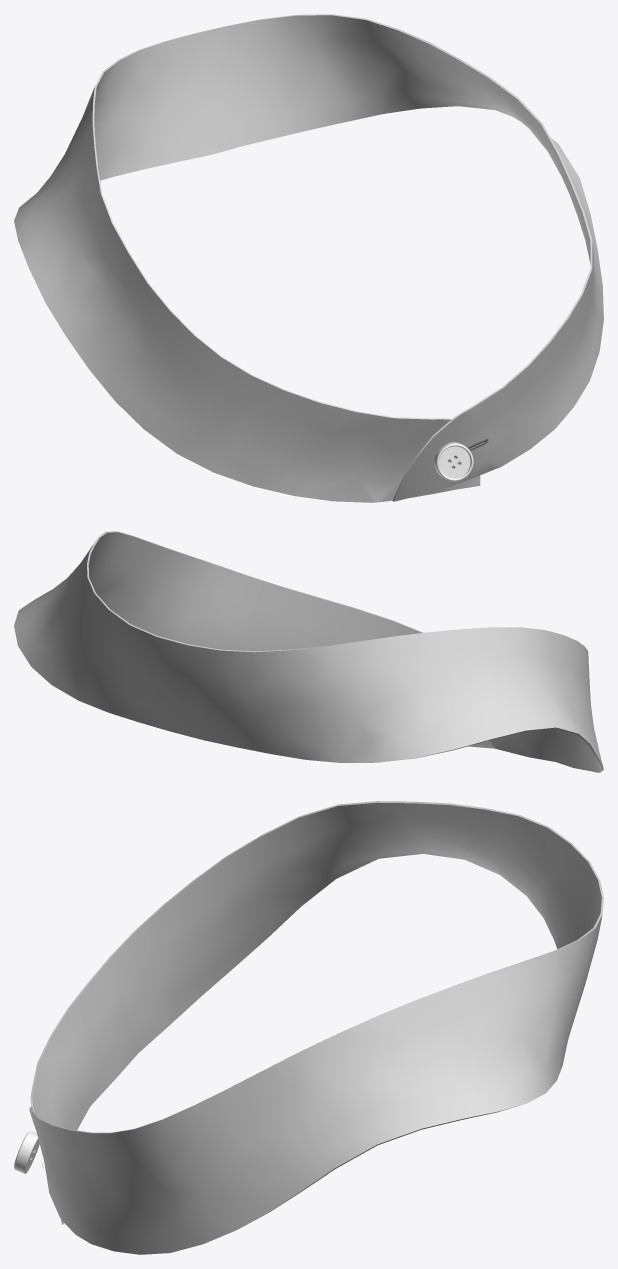
The model's file is collar-3-3.glb.
3 renders of one model, top to bottom at view 1: azimuth 30°, elevation 25°; view 2: azimuth 150°, elevation 25°; view 3: azimuth 270°, elevation 25°, orthographic. The views are drawn at different scales.
Visible parts, largest first — view 1: Collor_Inner, MatShape_517874_Node; view 2: Collor_Inner; view 3: Collor_Inner, MatShape_517874_Node.
Part boxes in pixels (x1,y1,x2,y2): Collor_Inner: (14, 14, 603, 502); MatShape_517874_Node: (434, 442, 473, 481); Collor_Inner: (14, 531, 603, 772); Collor_Inner: (29, 801, 603, 1254); MatShape_517874_Node: (14, 1131, 39, 1173).
Size of the model in its own units: 0.1608 by 0.0831 by 0.1407.
Materials: 3 (1 with a texture image).
